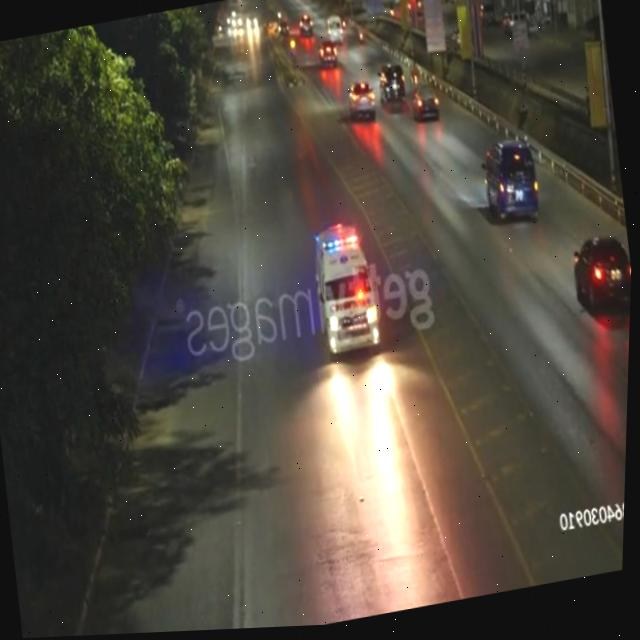emergency: (304, 210, 394, 373)
